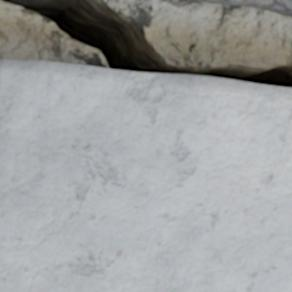brick: (0, 60, 291, 291), (194, 0, 291, 14)
crack: (0, 0, 291, 88)
